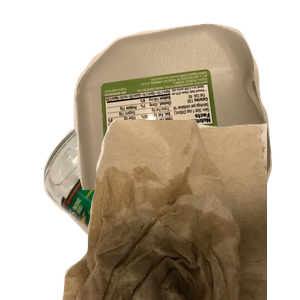glass: (41, 120, 281, 300)
metal: (80, 68, 284, 248)
plastic: (71, 21, 300, 201)
trash: (60, 120, 300, 300)
